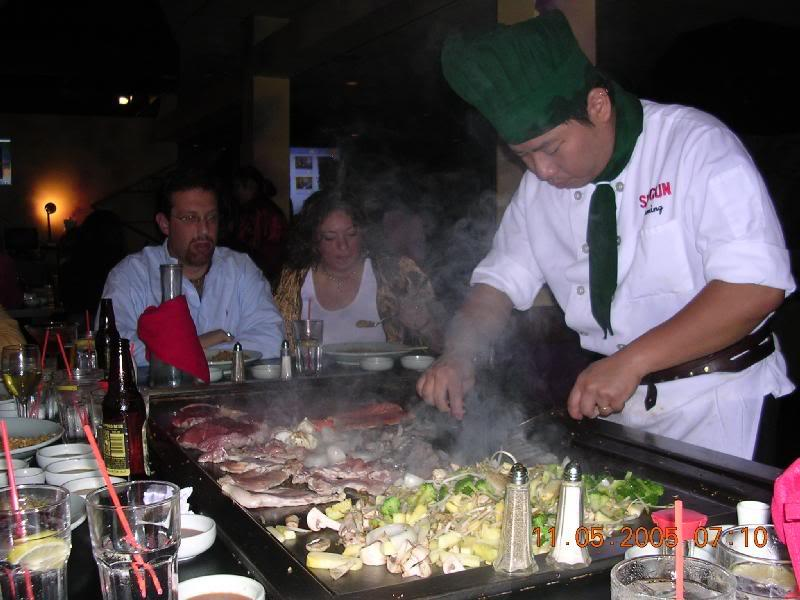person: (416, 58, 800, 472)
